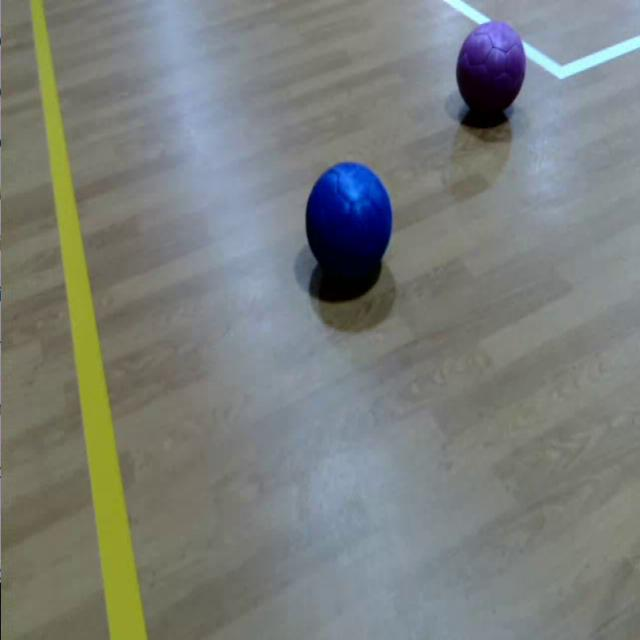blue_ball: (306, 160, 393, 278)
purple_ball: (456, 18, 527, 111)
